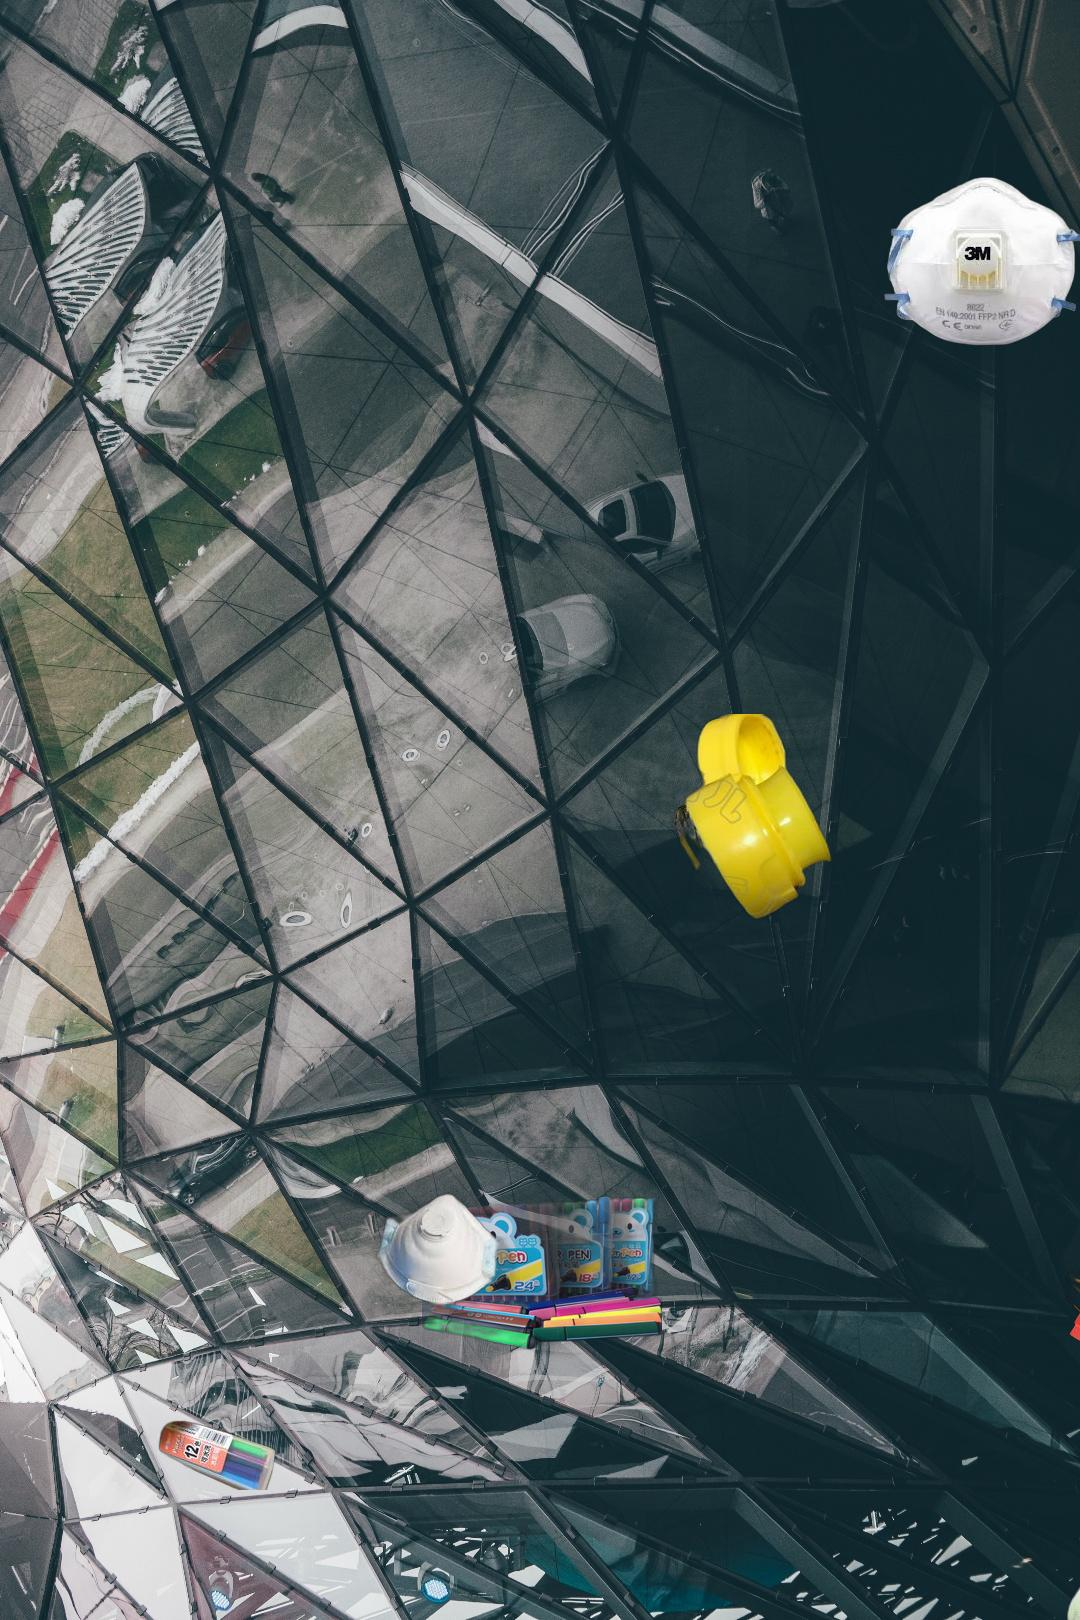biological: (667, 714, 837, 923)
metal-cans: (947, 1374, 1080, 1620)
paper-bag: (1062, 1260, 1080, 1463)
penholder: (422, 1172, 662, 1352), (121, 1417, 278, 1490)
trash: (245, 1190, 520, 1339), (880, 174, 1080, 348)
